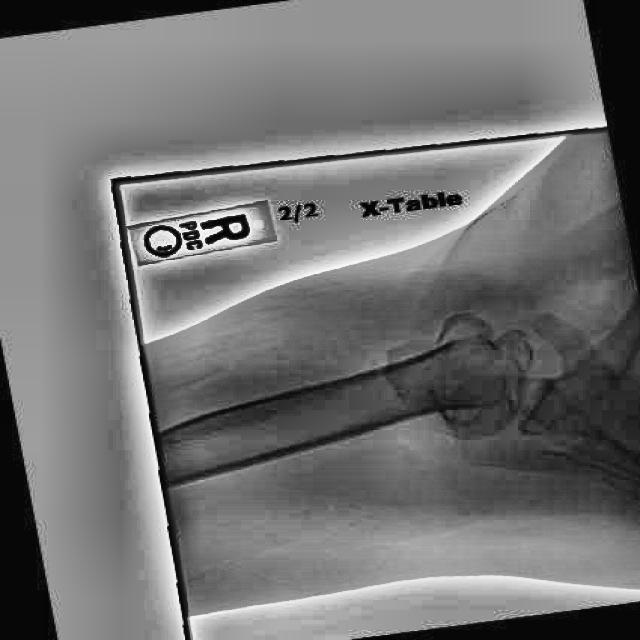shoulder fracture: (399, 289, 524, 384)
